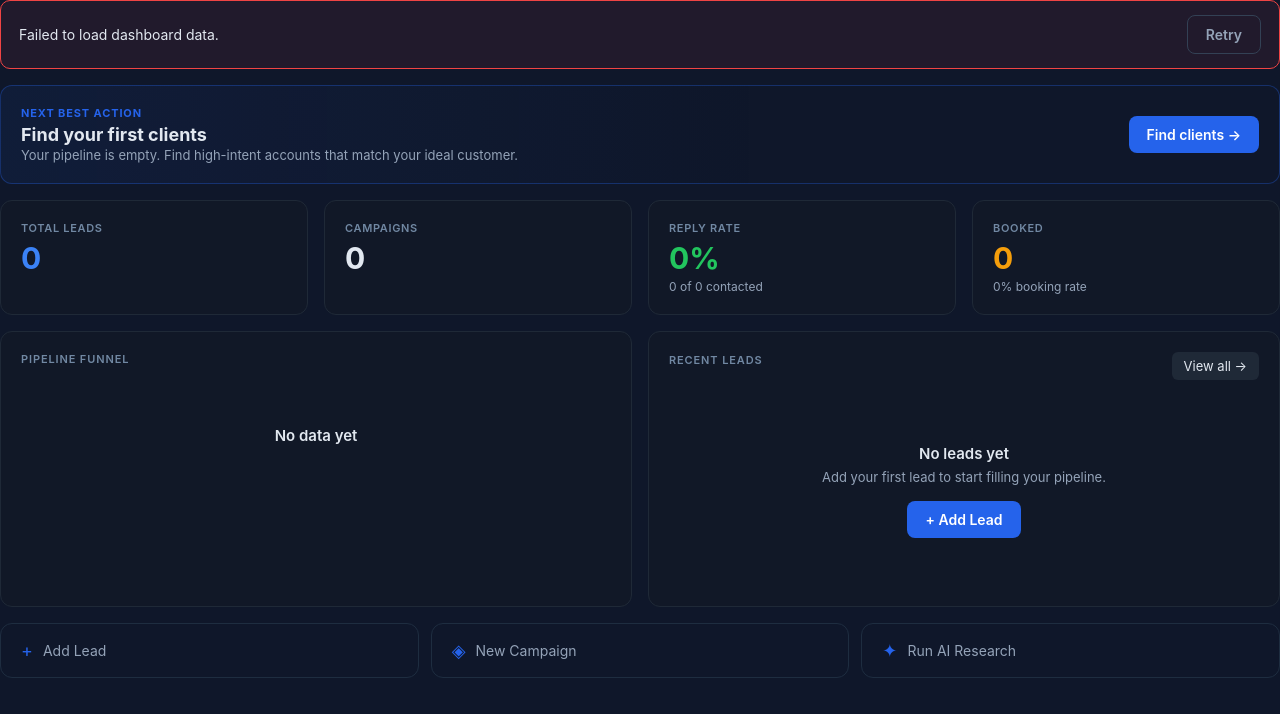
Dashboard › shows a persistent error banner (not just a toast) when the stats load fails, and Retry reloads
Expected: the message shows "Failed to load dashboard data", left=19, top=26, right=219, bottom=43
Click the button "Retry": (1224, 34) left=1187, top=15, right=1261, bottom=54
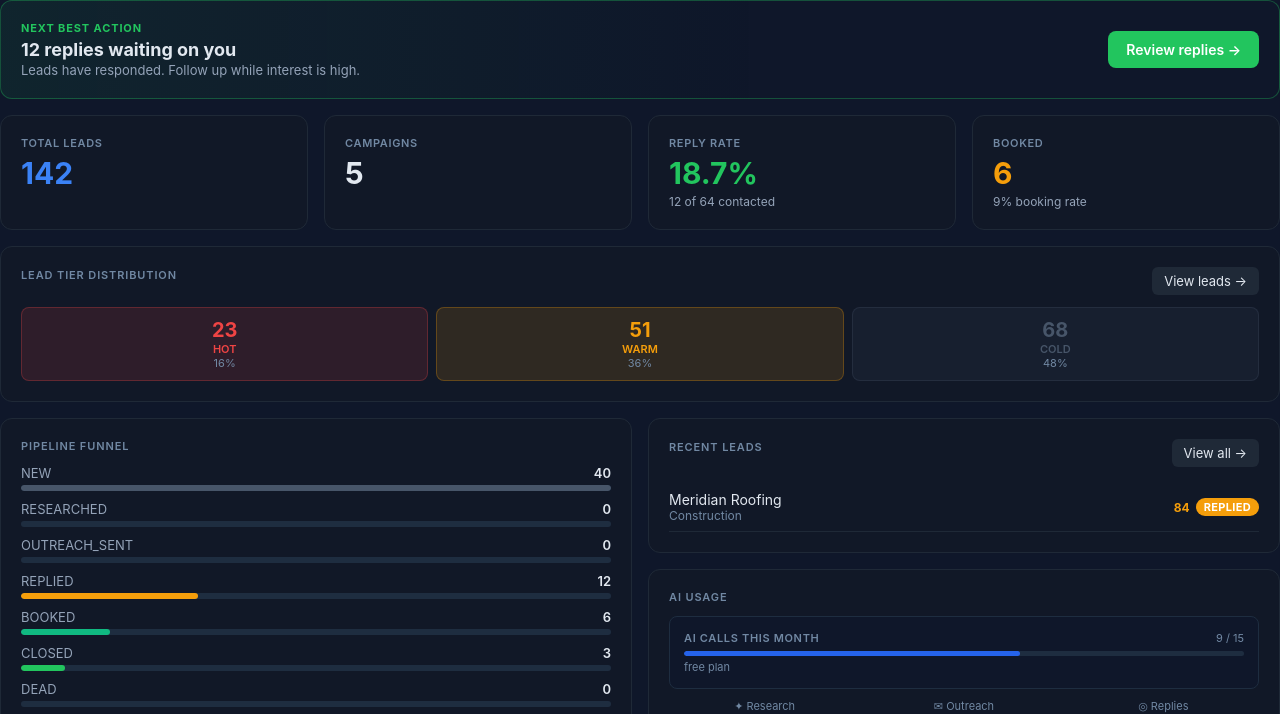
Expected: the text "142" is shown, left=21, top=155, right=73, bottom=191
Expected: the message "Failed to load dashboard data. Retry" is gone
